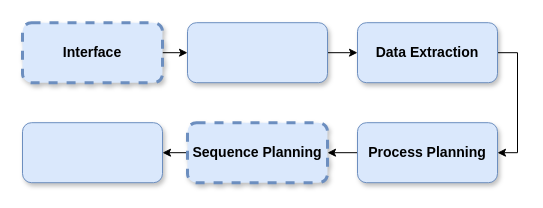
Image size: 543x208. Some labels were removed from this diagram. The centre of each missing label's shape, as x and y in pixels:
Motion Planning: (x=93, y=154)
Path Data: (x=258, y=54)
